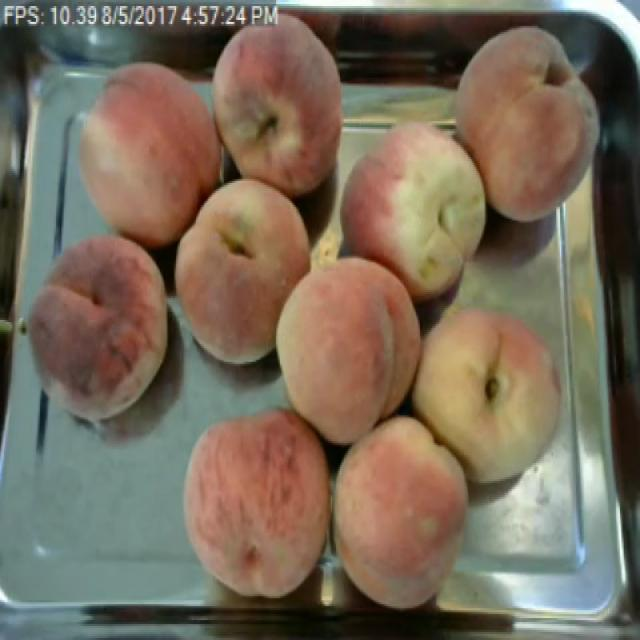Fruit: (8, 217, 188, 443), (440, 12, 620, 236), (260, 243, 440, 459), (170, 396, 346, 610), (396, 294, 583, 495), (324, 400, 483, 618), (328, 121, 504, 316), (167, 165, 325, 382), (68, 52, 235, 256), (205, 6, 356, 213)
